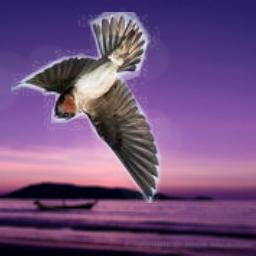Swallow: (11, 12, 162, 203)
